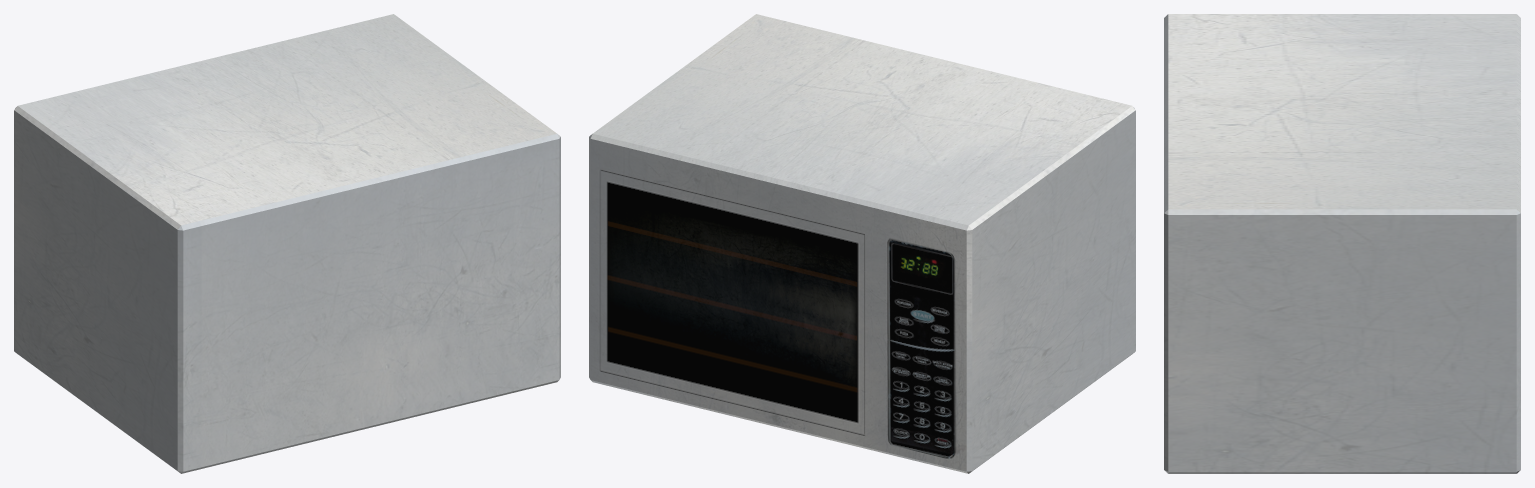
File: Microwave.fbx
3 views of the same model, side by side, from view 1: azimuth 30°, elevation 25°; view 2: azimuth 150°, elevation 25°; view 3: azimuth 270°, elevation 25° (orthographic). The views are drawn at different scales.
Parts seen in each view (by area): view 1: Microwave; view 2: Microwave; view 3: Microwave.
Boxes of the visible parts, x1,y1,x2,y2 form: Microwave: (14,14,560,473); Microwave: (589,14,1135,473); Microwave: (1164,14,1520,473).
Bounding box in the file's own units: 0.1479 × 0.0917 × 0.112.
1 material, 1 textured.
